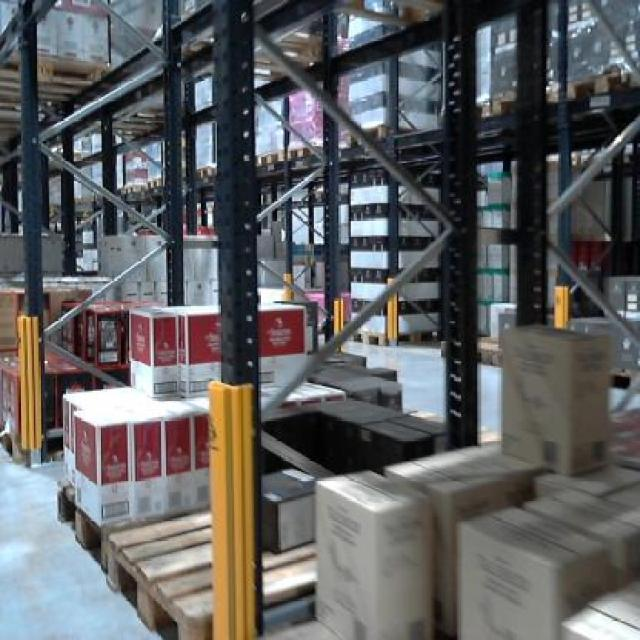pallet: (102, 498, 264, 640), (57, 458, 115, 574), (247, 139, 288, 171)
